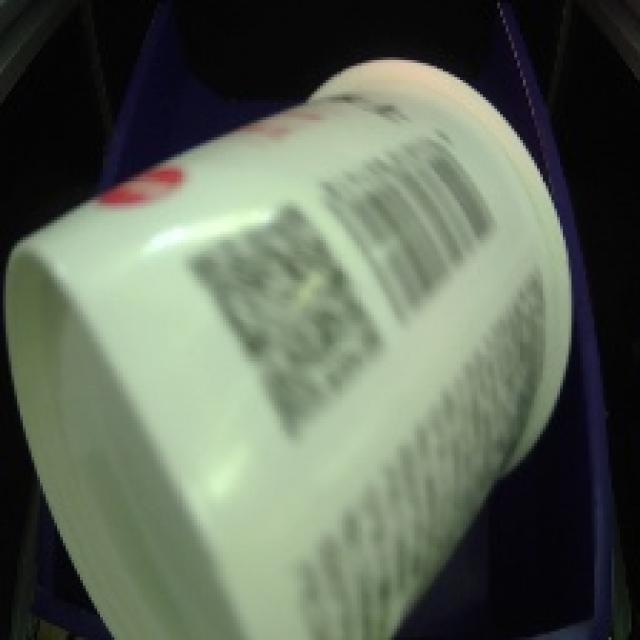cups: (0, 45, 581, 640)
